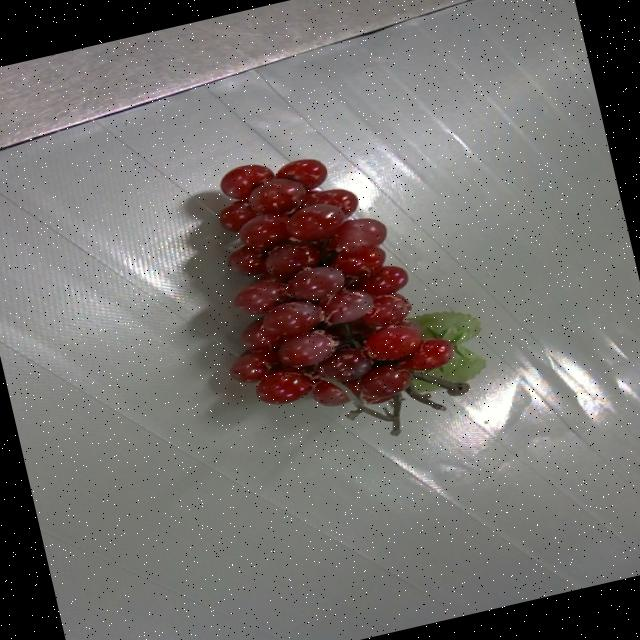grape: (219, 158, 486, 433)
